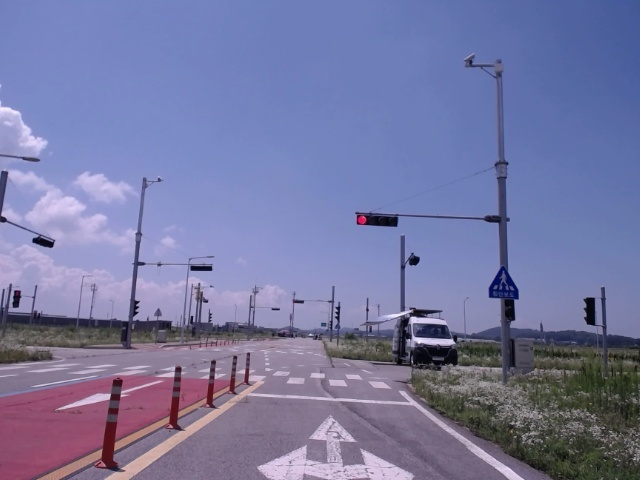red_4: (357, 215, 397, 227)
